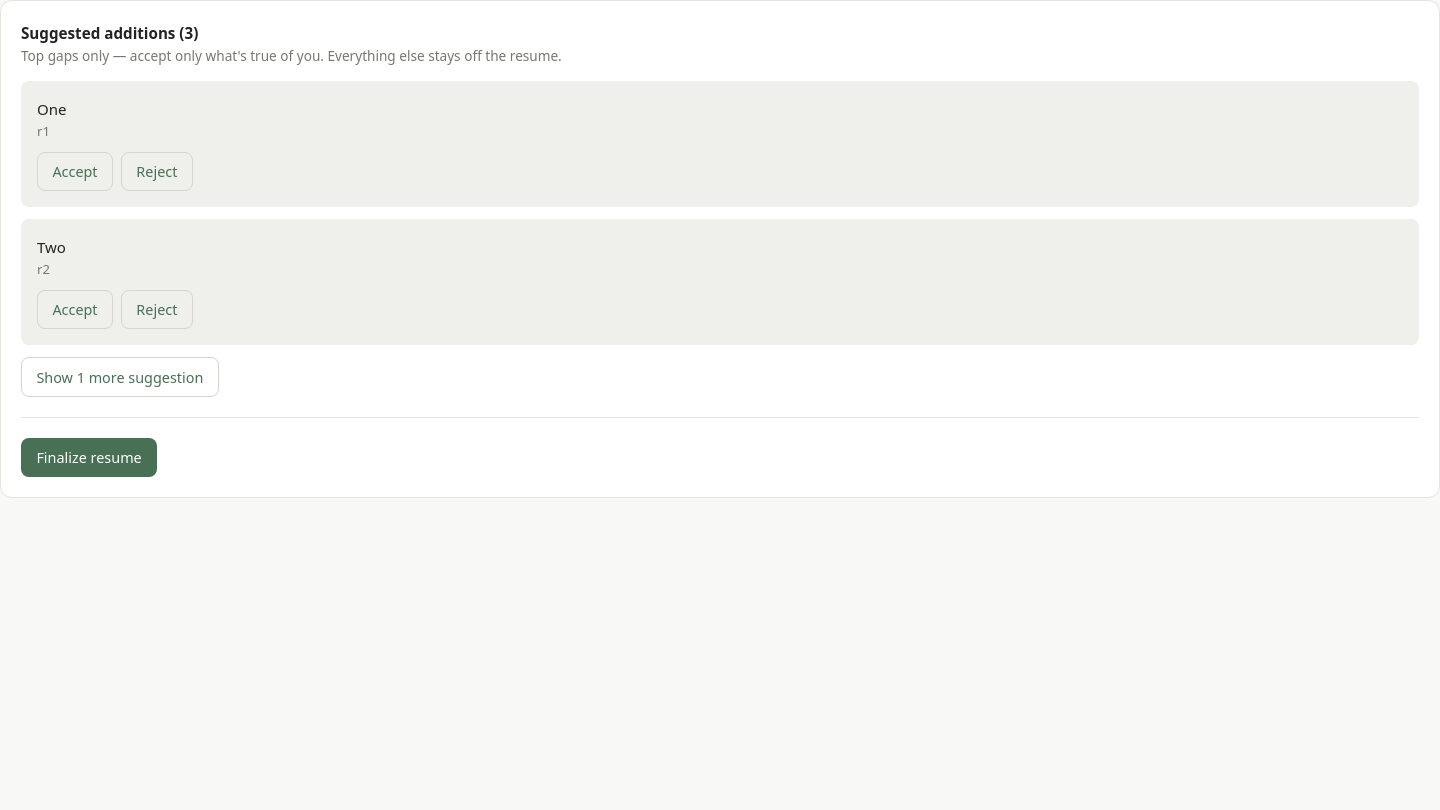
Test: SuggestionReview › collapses extra suggestions until expanded
The image size is (1440, 810).
Expected: the text "One" is shown, x1=37 y1=100 x2=66 y2=120
Expected: the text "Two" is shown, x1=37 y1=238 x2=66 y2=258
Click the button "Show 1 more suggestion" at [120, 377], box x1=21 y1=358 x2=219 y2=397
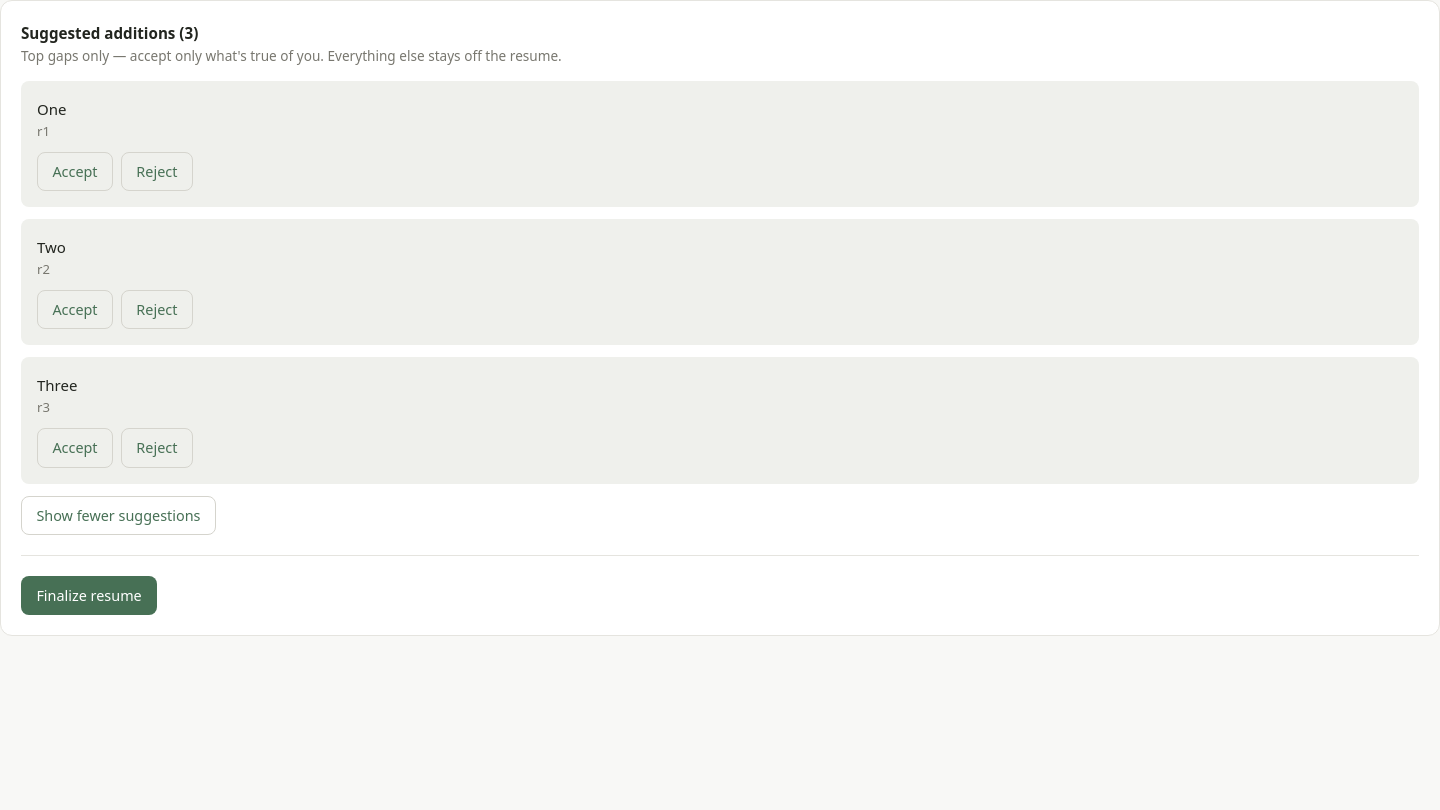
Expected: the text "Three" is shown, x1=37 y1=376 x2=77 y2=396
